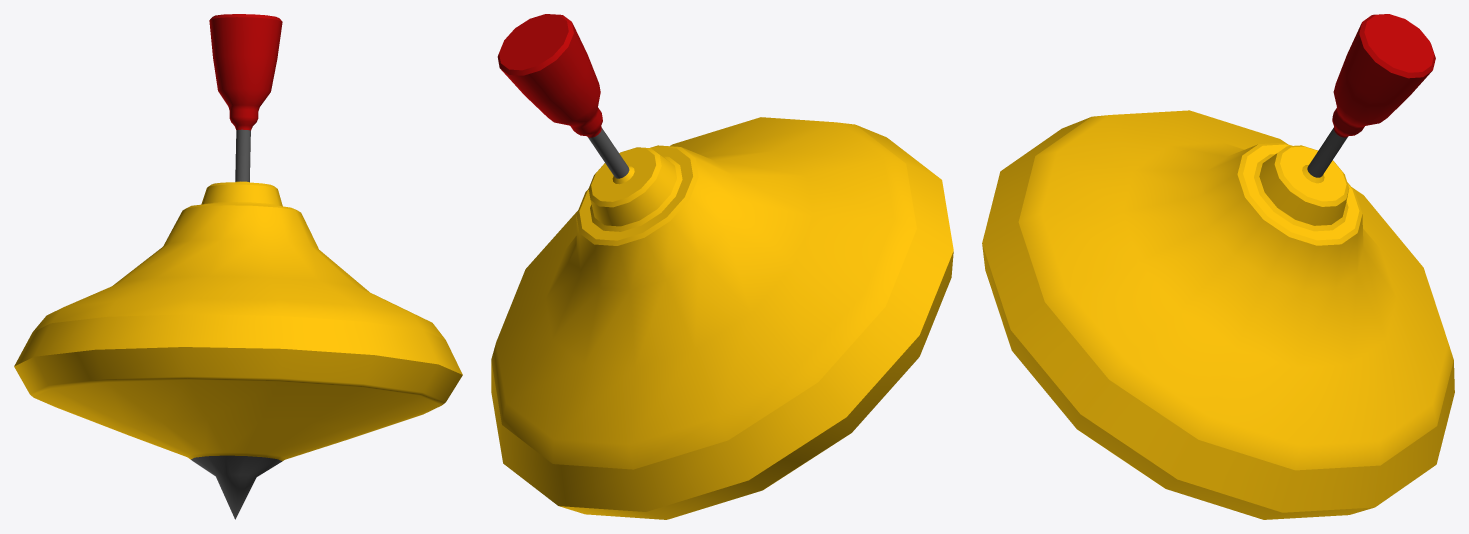
The model's file is Mainan 3.fbx.
The picture shows the model from 3 angles, left to right: view 1: azimuth 30°, elevation 25°; view 2: azimuth 150°, elevation 25°; view 3: azimuth 270°, elevation 25°; orthographic projection. The views are drawn at different scales.
Visible parts, largest first — view 1: pCylinder1; view 2: pCylinder1; view 3: pCylinder1.
Boxes of the visible parts, x1,y1,x2,y2 form: pCylinder1: [14, 14, 462, 519]; pCylinder1: [491, 14, 953, 519]; pCylinder1: [982, 14, 1454, 519].
Bounding box in the file's own units: 12.1 × 12.65 × 11.33.
